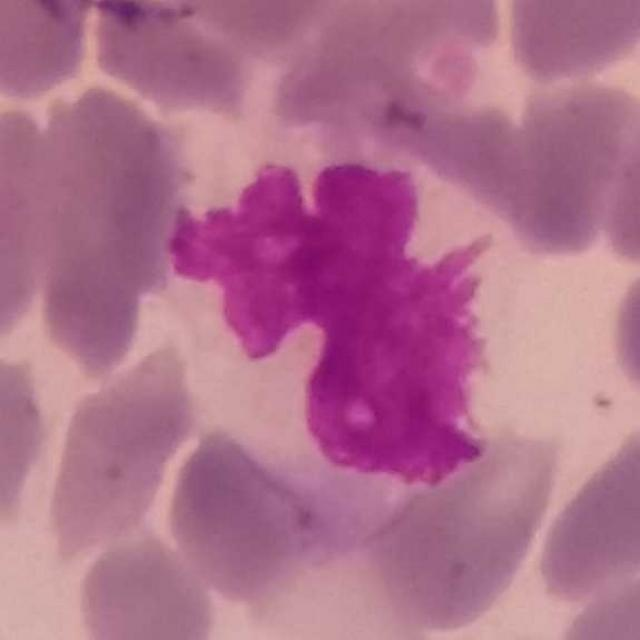Monocyte: (156, 128, 548, 513)
RBC: (12, 78, 193, 339), (358, 410, 566, 632), (160, 423, 340, 600), (223, 514, 454, 640), (39, 378, 194, 556), (494, 76, 640, 259), (531, 413, 640, 611), (86, 0, 268, 116), (268, 49, 441, 165), (70, 528, 220, 640), (497, 0, 640, 87), (0, 117, 50, 356), (0, 342, 55, 538), (0, 0, 101, 105), (150, 0, 358, 48), (61, 0, 320, 33), (597, 92, 640, 277), (546, 561, 640, 640), (604, 245, 640, 418)
